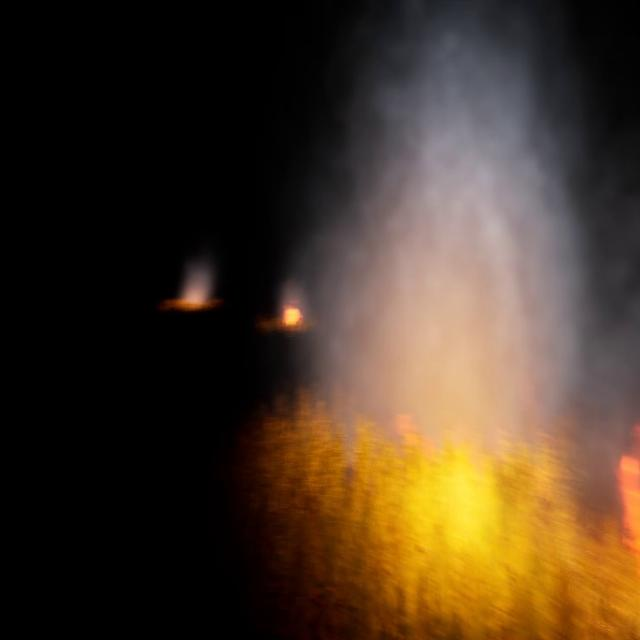fire: (270, 397, 639, 639), (282, 302, 300, 322)
smoke: (284, 0, 640, 526), (178, 258, 216, 298)
